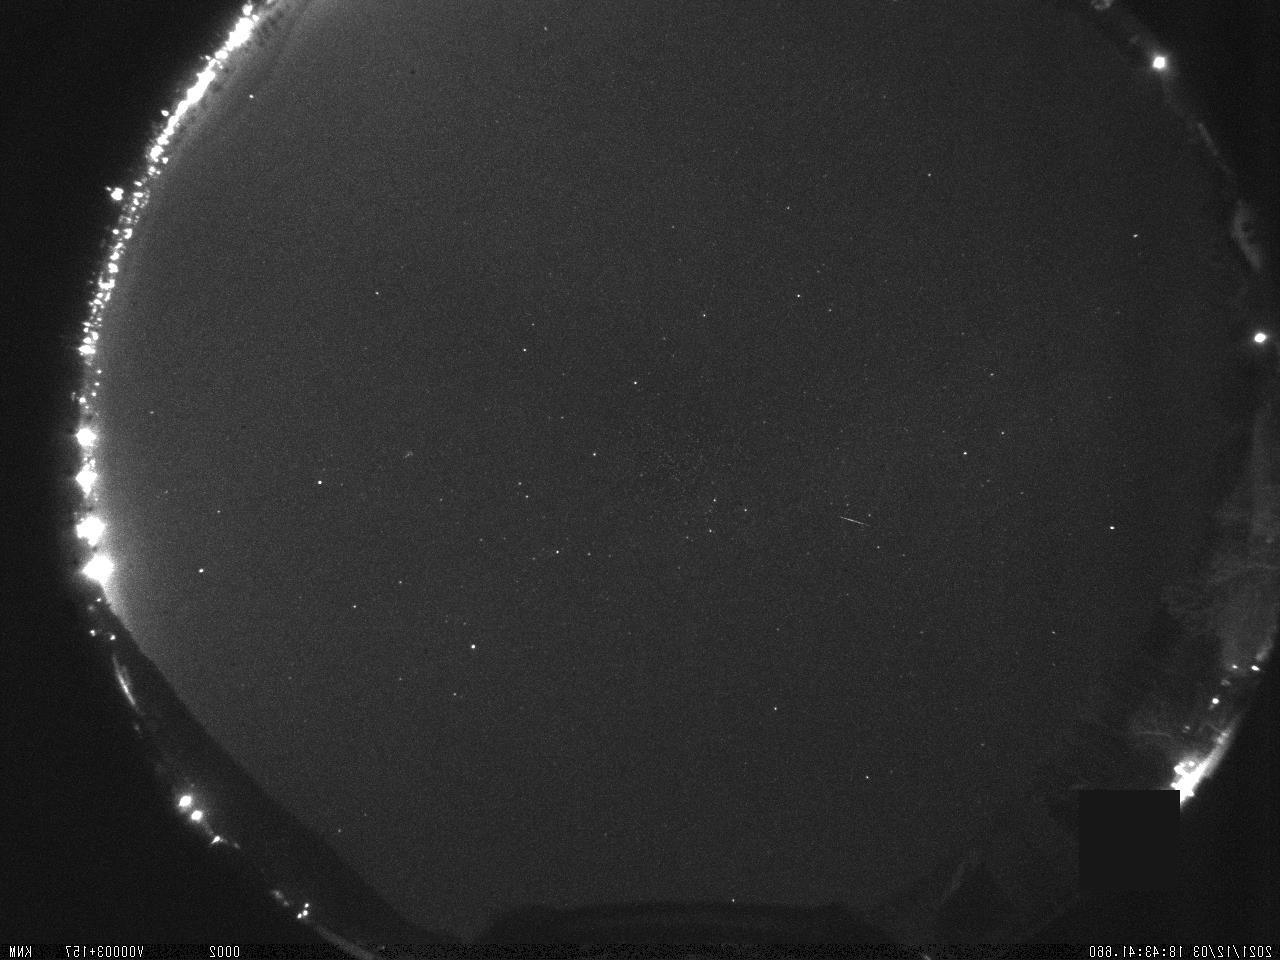meteor: (780, 503, 904, 533)
